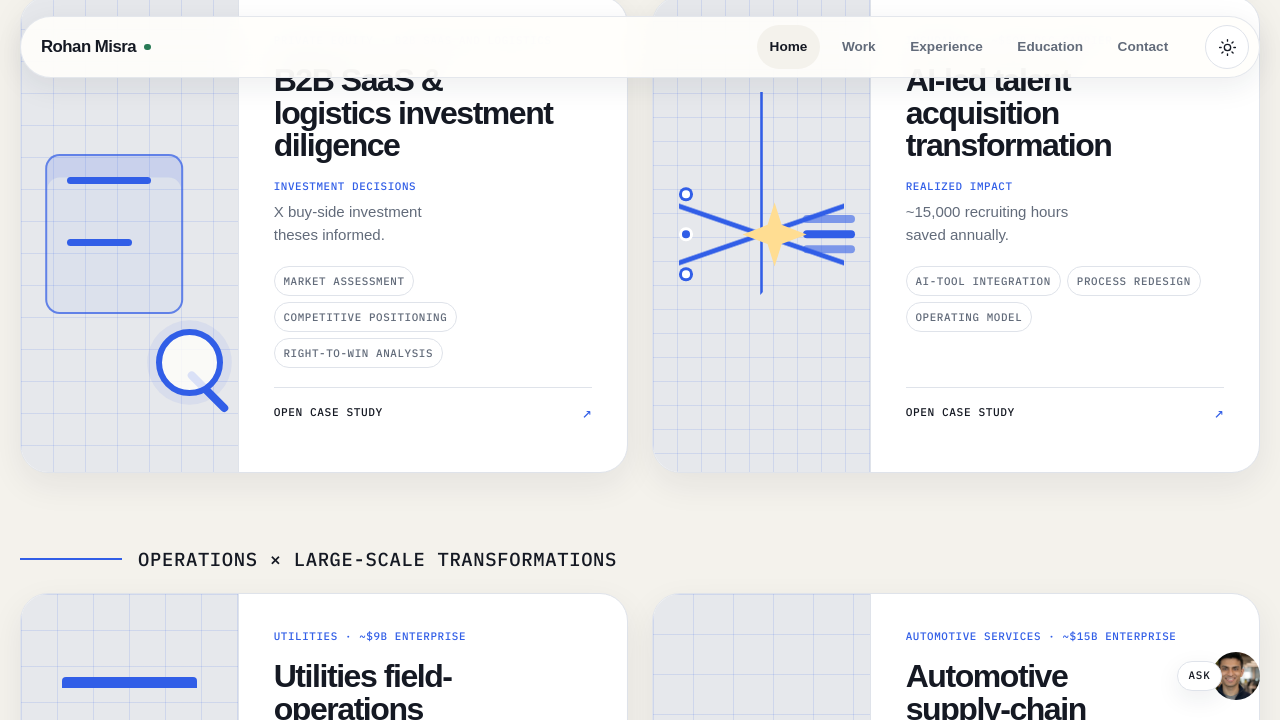
Test case: App › omits the assistant action for a case without an approved topic
(page scrolled)
Click the button with aria-label "Open case study: AI-led talent acquisition transformation" at (960, 412), box [906,387,1224,437]
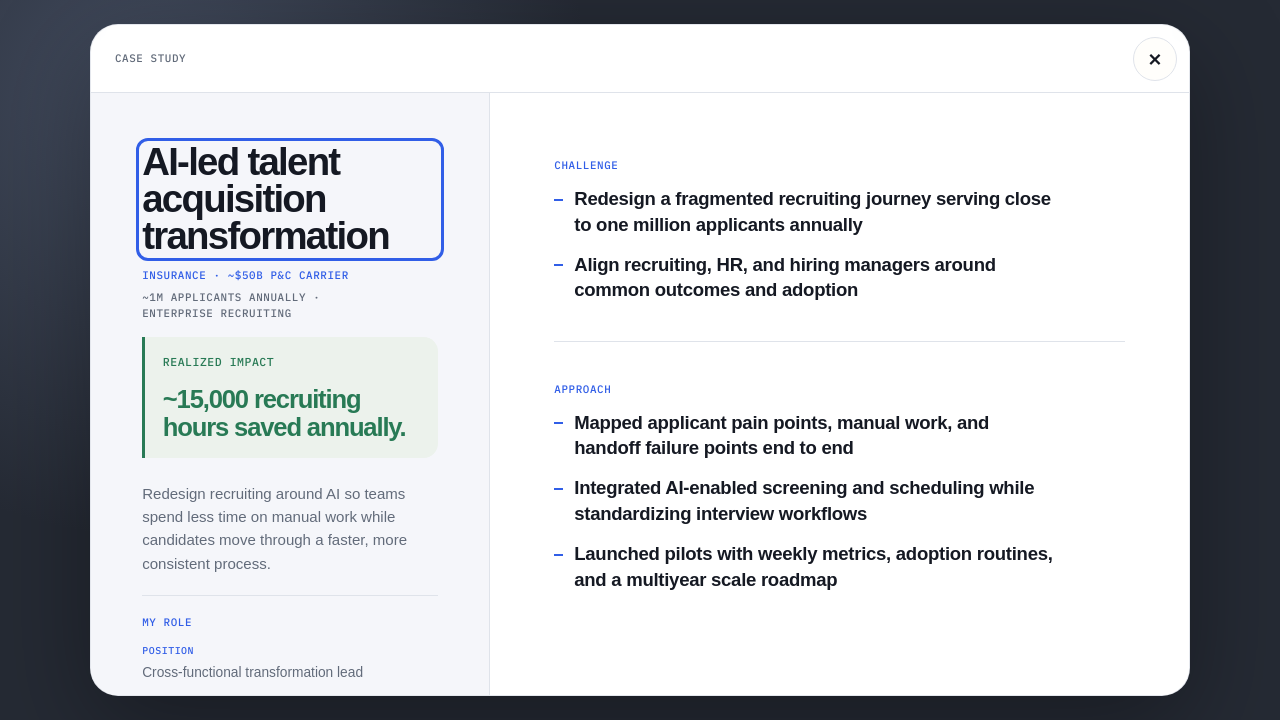
Result: the dialog "AI-led talent acquisition transformation" is shown
